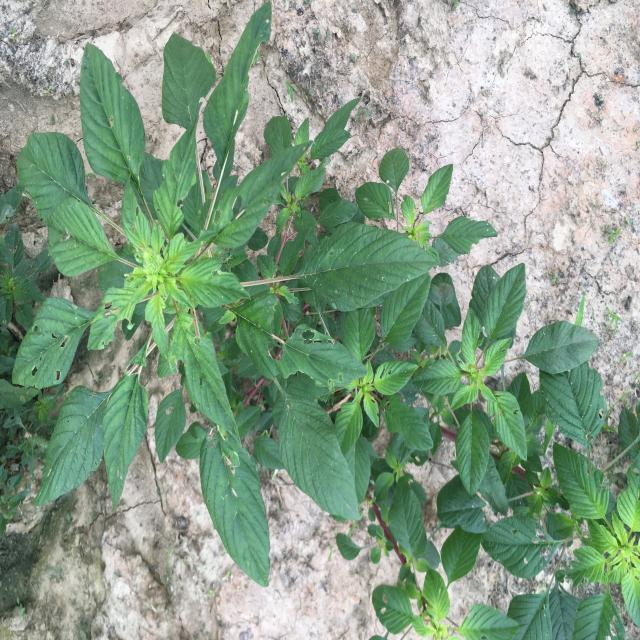PalmerAmaranth: (1, 3, 640, 640)
